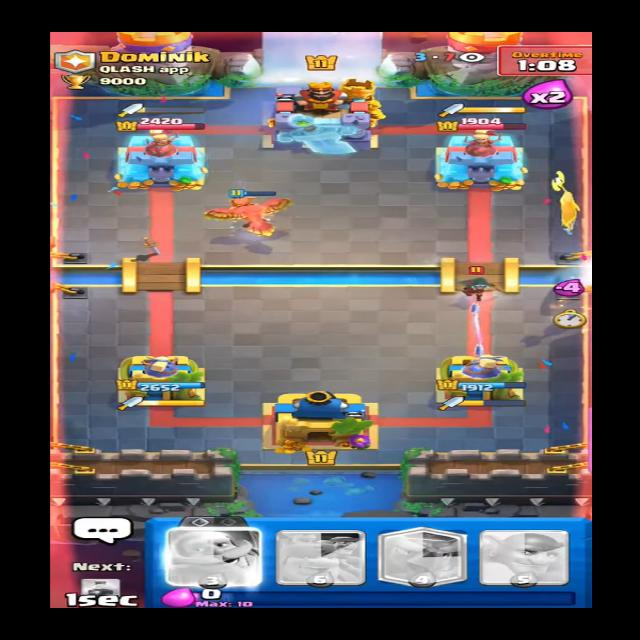bandit: (444, 264, 501, 302)
